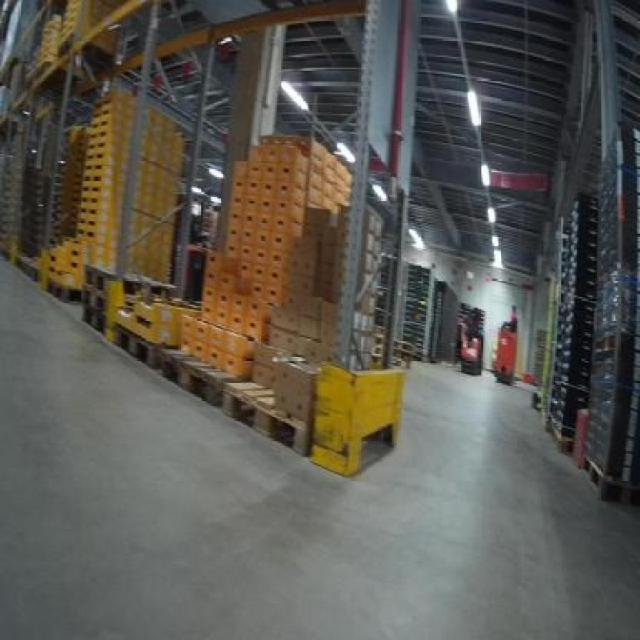pallet: (219, 385, 302, 454), (154, 345, 216, 403), (43, 275, 89, 309)
